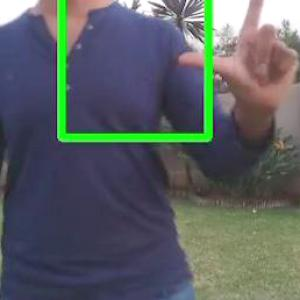land_hand: (178, 0, 299, 111)
